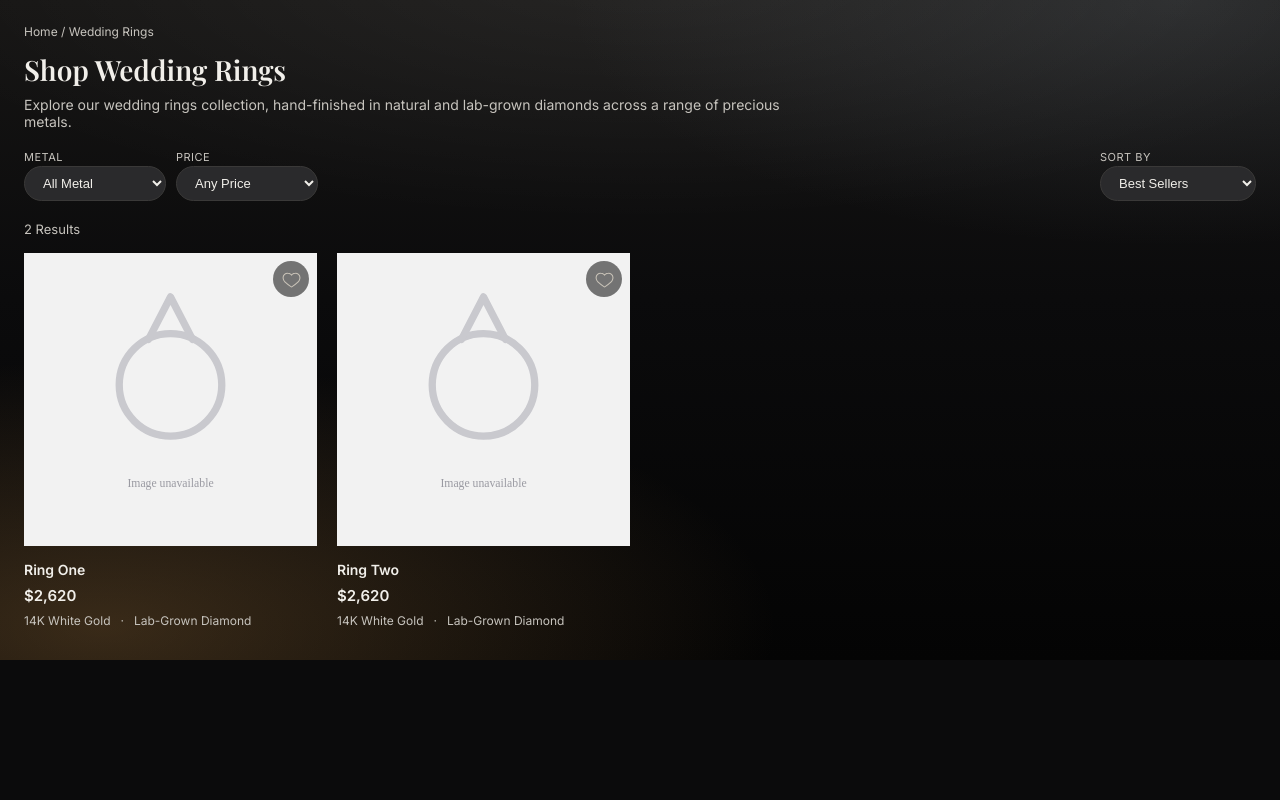
Scenario: CatalogPage › resets the accumulated items back to a single page when filters change
This screenshot has width=1280, height=800.
Expected: the link "Ring One" is shown, [24,561,85,578]
Expected: the link "Ring Two" is shown, [337,561,399,578]
Select "14K White Gold" in the dropdown labelled "Metal": (95, 184) [24,166,166,201]
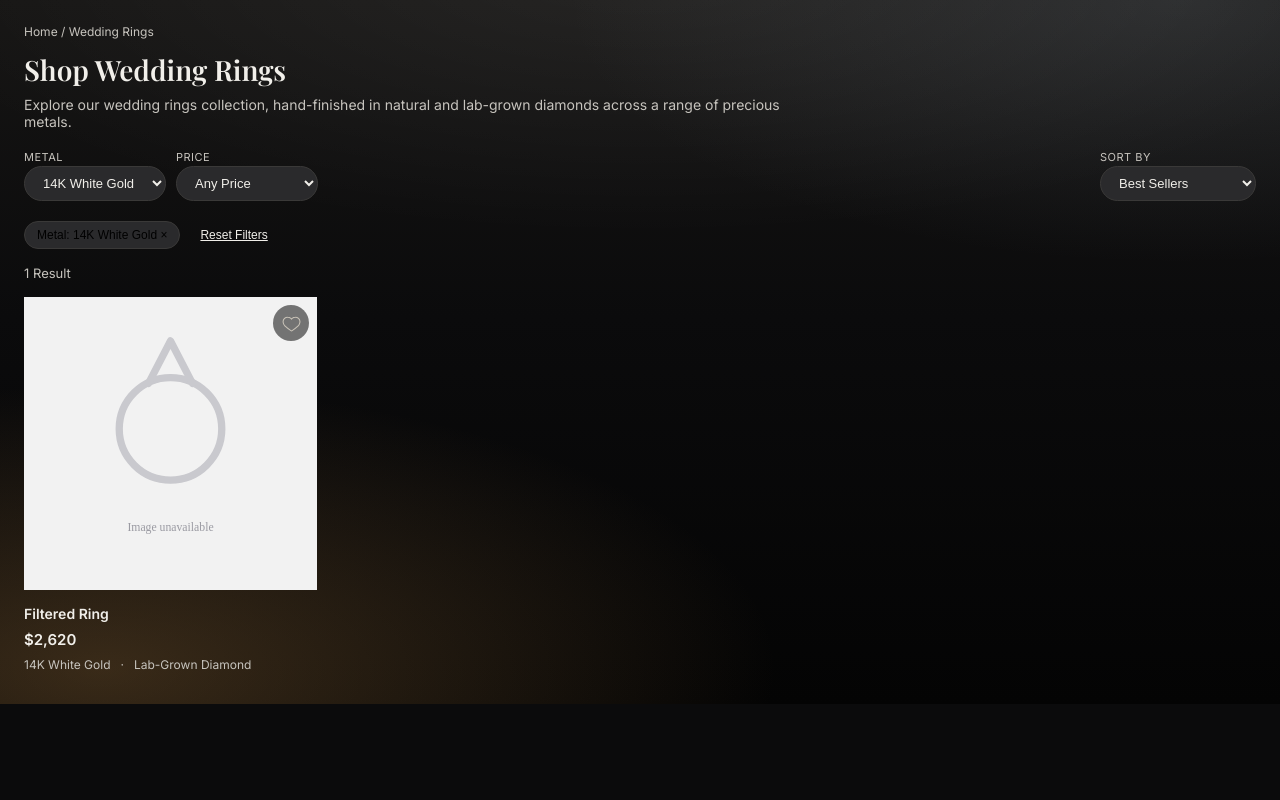
Result: the link "Filtered Ring" is shown at [24,605,109,622]
Result: the link "Ring One" is gone
Result: the link "Ring Two" is gone
